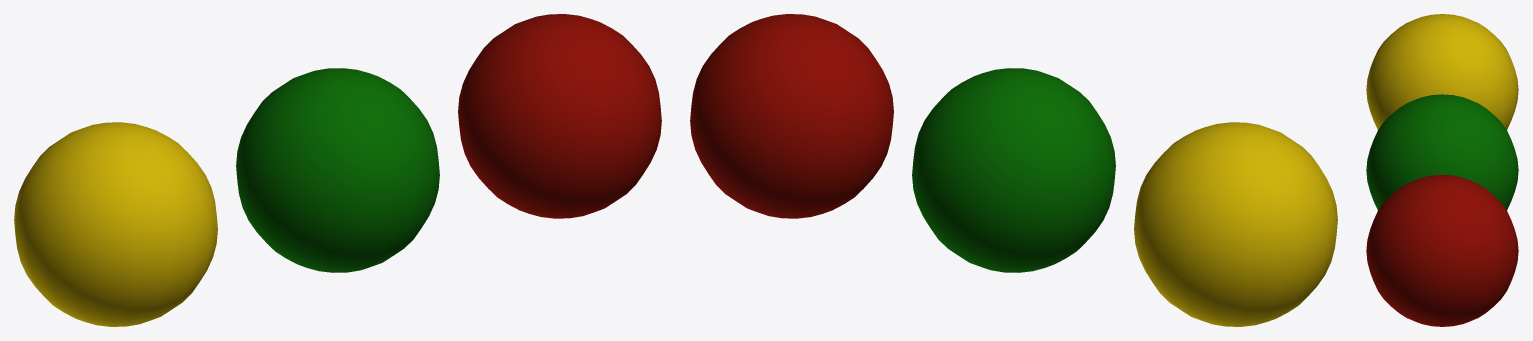
File: spheres.dae
The picture shows the model from 3 angles, left to right: view 1: azimuth 30°, elevation 25°; view 2: azimuth 150°, elevation 25°; view 3: azimuth 270°, elevation 25°; orthographic projection. The views are drawn at different scales.
Parts seen in each view (by area): view 1: pSphere2, pSphere1, pSphere3; view 2: pSphere2, pSphere1, pSphere3; view 3: pSphere1, pSphere2, pSphere3.
Boxes of the visible parts, left/top/right/bottom form: pSphere2: left=236, top=68, right=439, bottom=272; pSphere1: left=458, top=14, right=661, bottom=218; pSphere3: left=14, top=122, right=217, bottom=326; pSphere2: left=912, top=68, right=1115, bottom=272; pSphere1: left=690, top=14, right=893, bottom=218; pSphere3: left=1134, top=122, right=1337, bottom=326; pSphere1: left=1366, top=175, right=1518, bottom=326; pSphere2: left=1366, top=94, right=1518, bottom=210; pSphere3: left=1366, top=14, right=1518, bottom=129.
Size of what is drawn, in the model's own units: 700 by 200 by 200.
